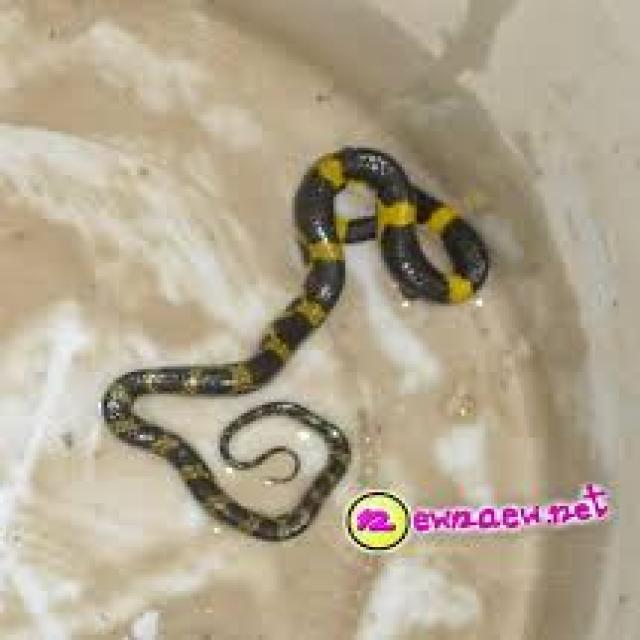Venomous: (365, 165, 490, 304)
